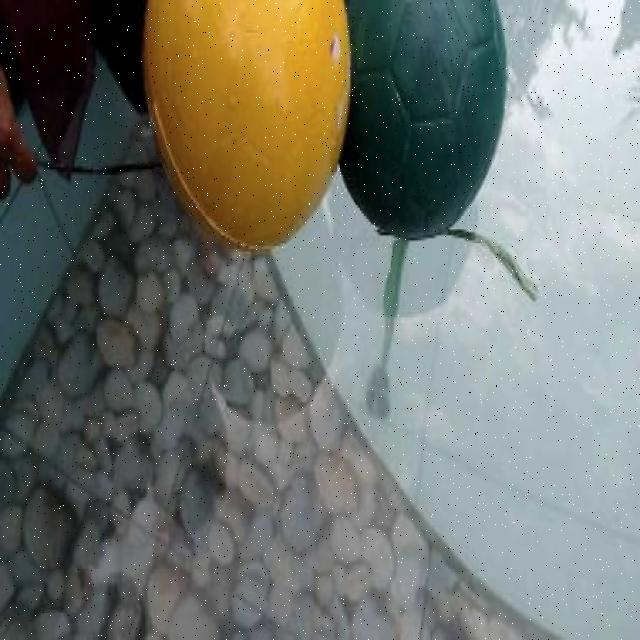buoy: (140, 2, 349, 250), (337, 1, 506, 240)
